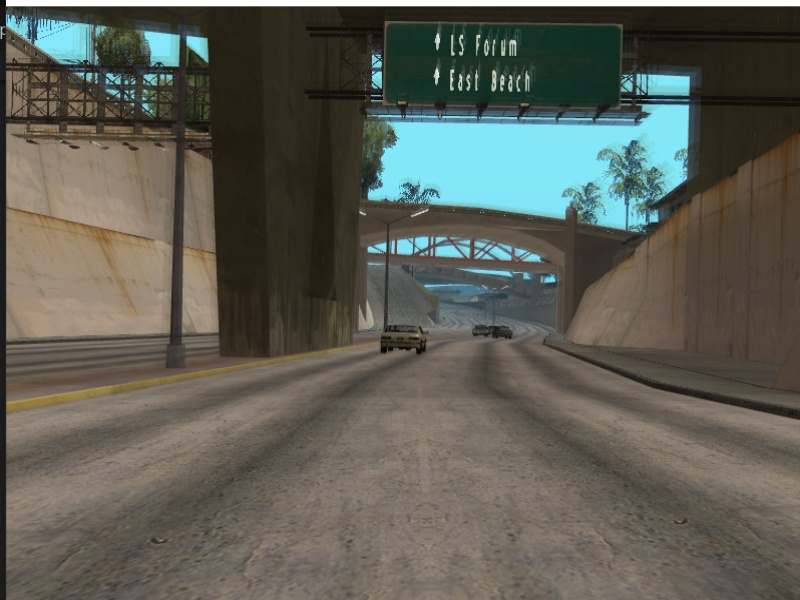pole: (173, 37, 190, 371), (383, 222, 389, 322)
vehicle: (381, 323, 429, 356), (492, 322, 515, 342), (473, 323, 488, 339)
